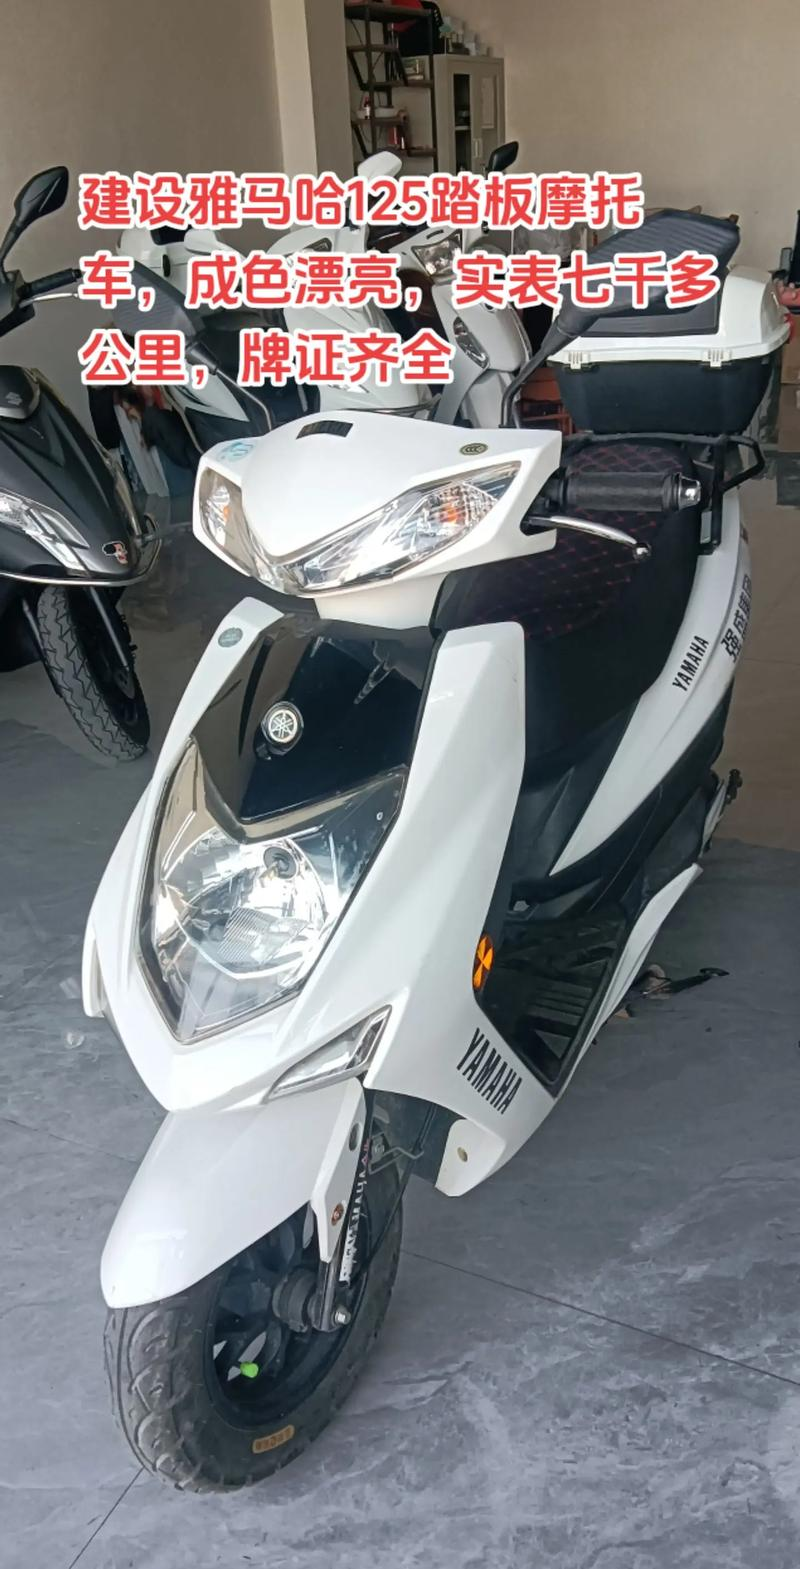摩托车: (41, 270, 793, 1537)
